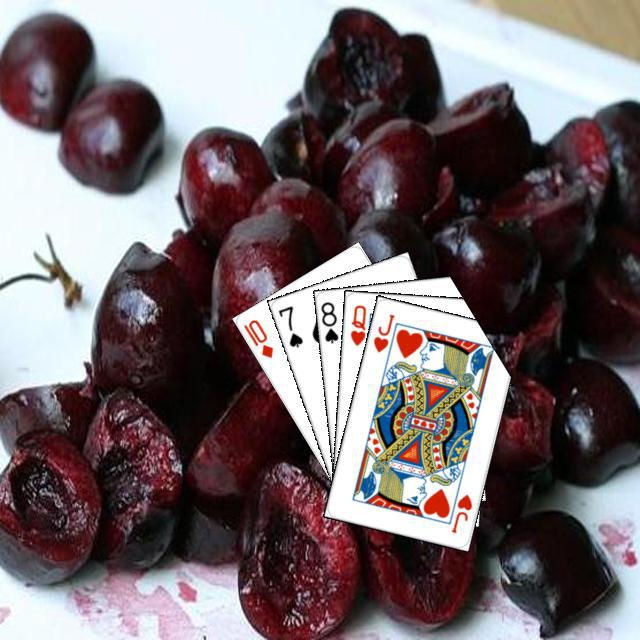10d: (239, 314, 275, 360)
7s: (273, 301, 305, 349)
8s: (316, 297, 340, 345)
Jh: (368, 309, 396, 354), (446, 489, 474, 534)
Qh: (345, 300, 367, 348)
